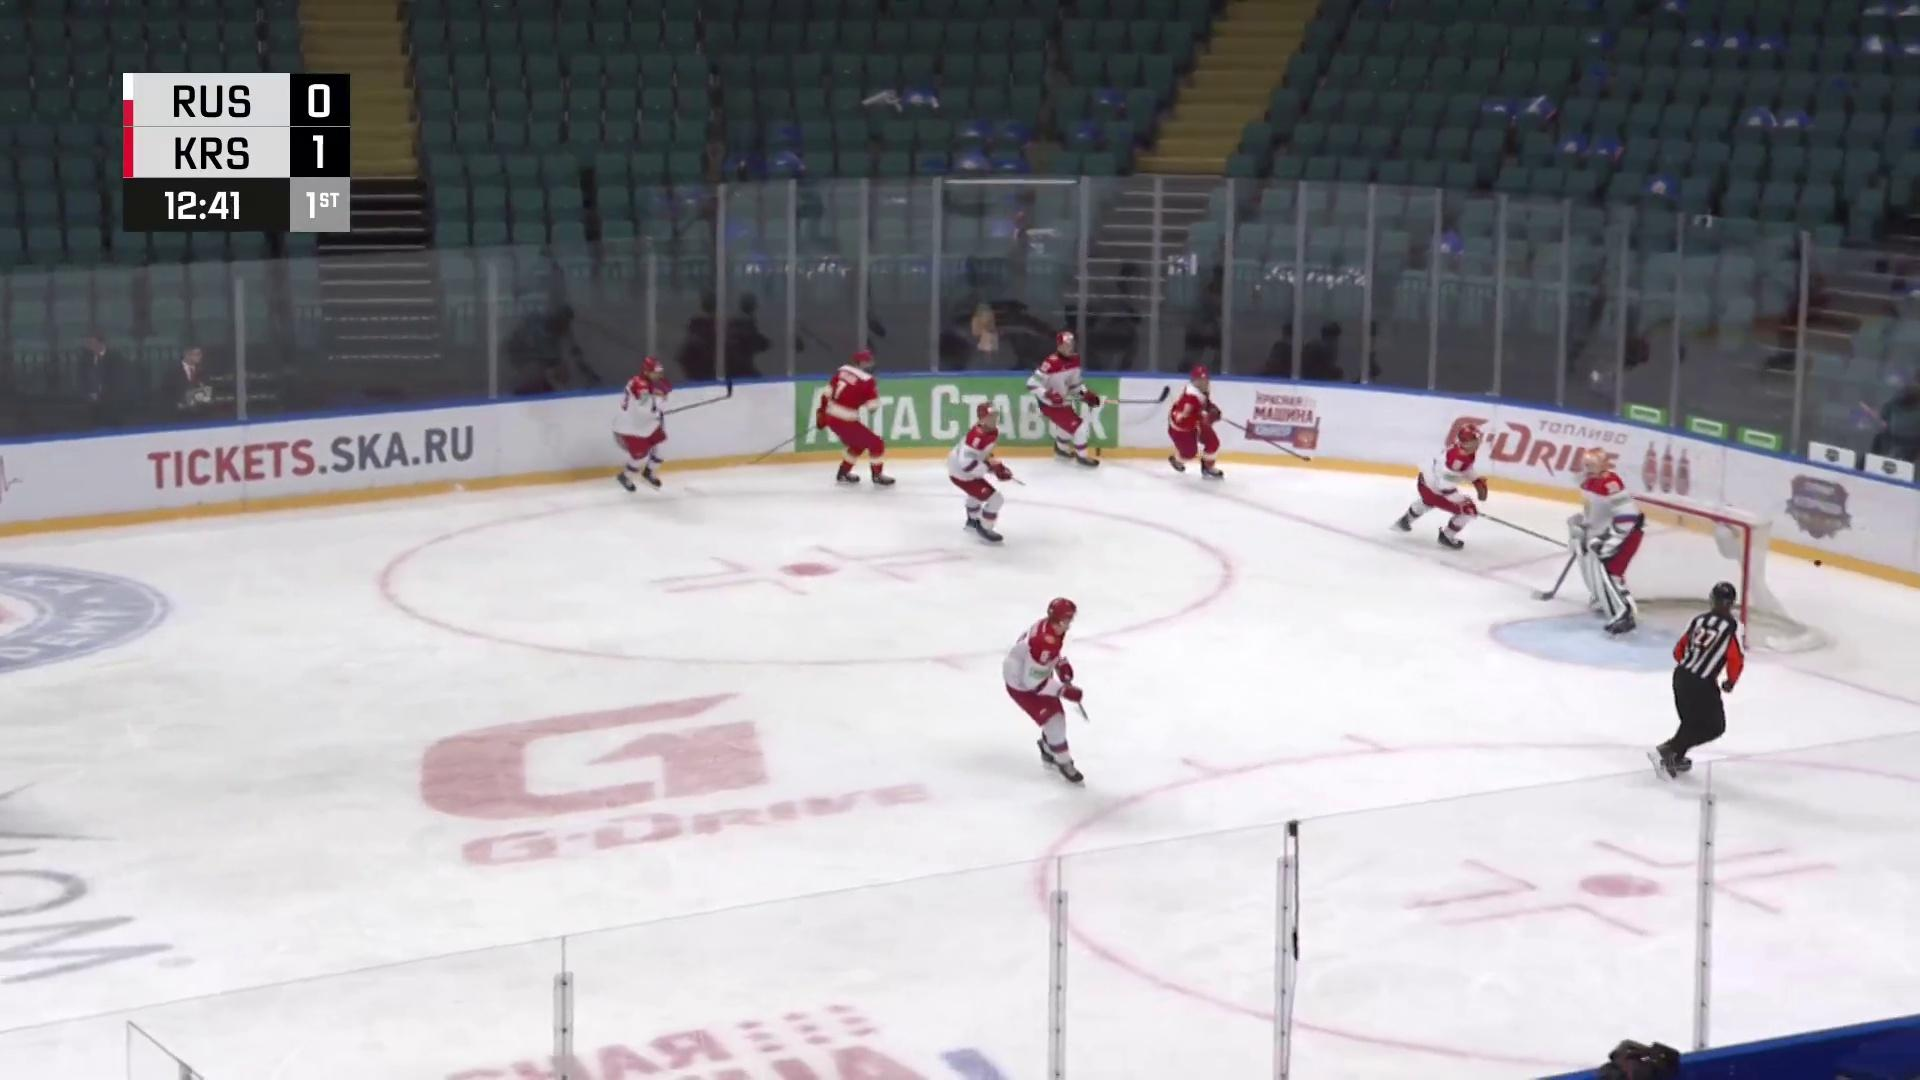ball: (1812, 559, 1825, 568)
